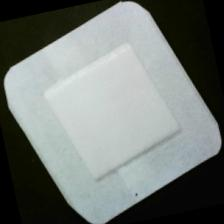Dressing: (1, 1, 224, 224)
F_Body: (126, 185, 148, 204)
